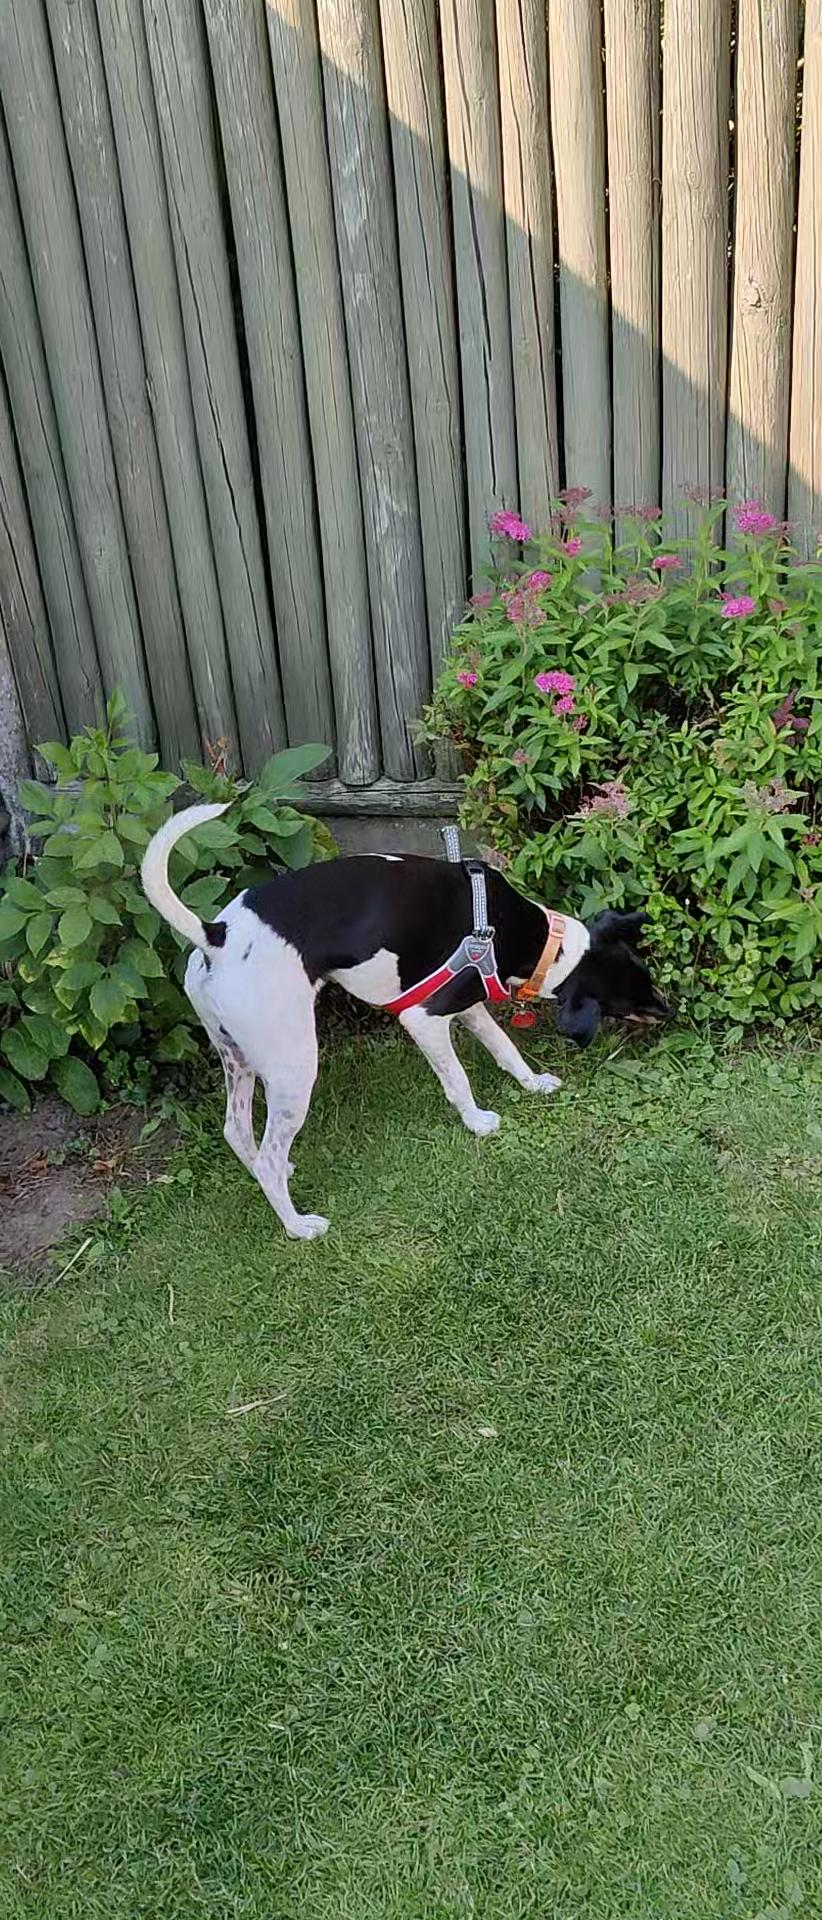Dog: (134, 786, 679, 1244)
